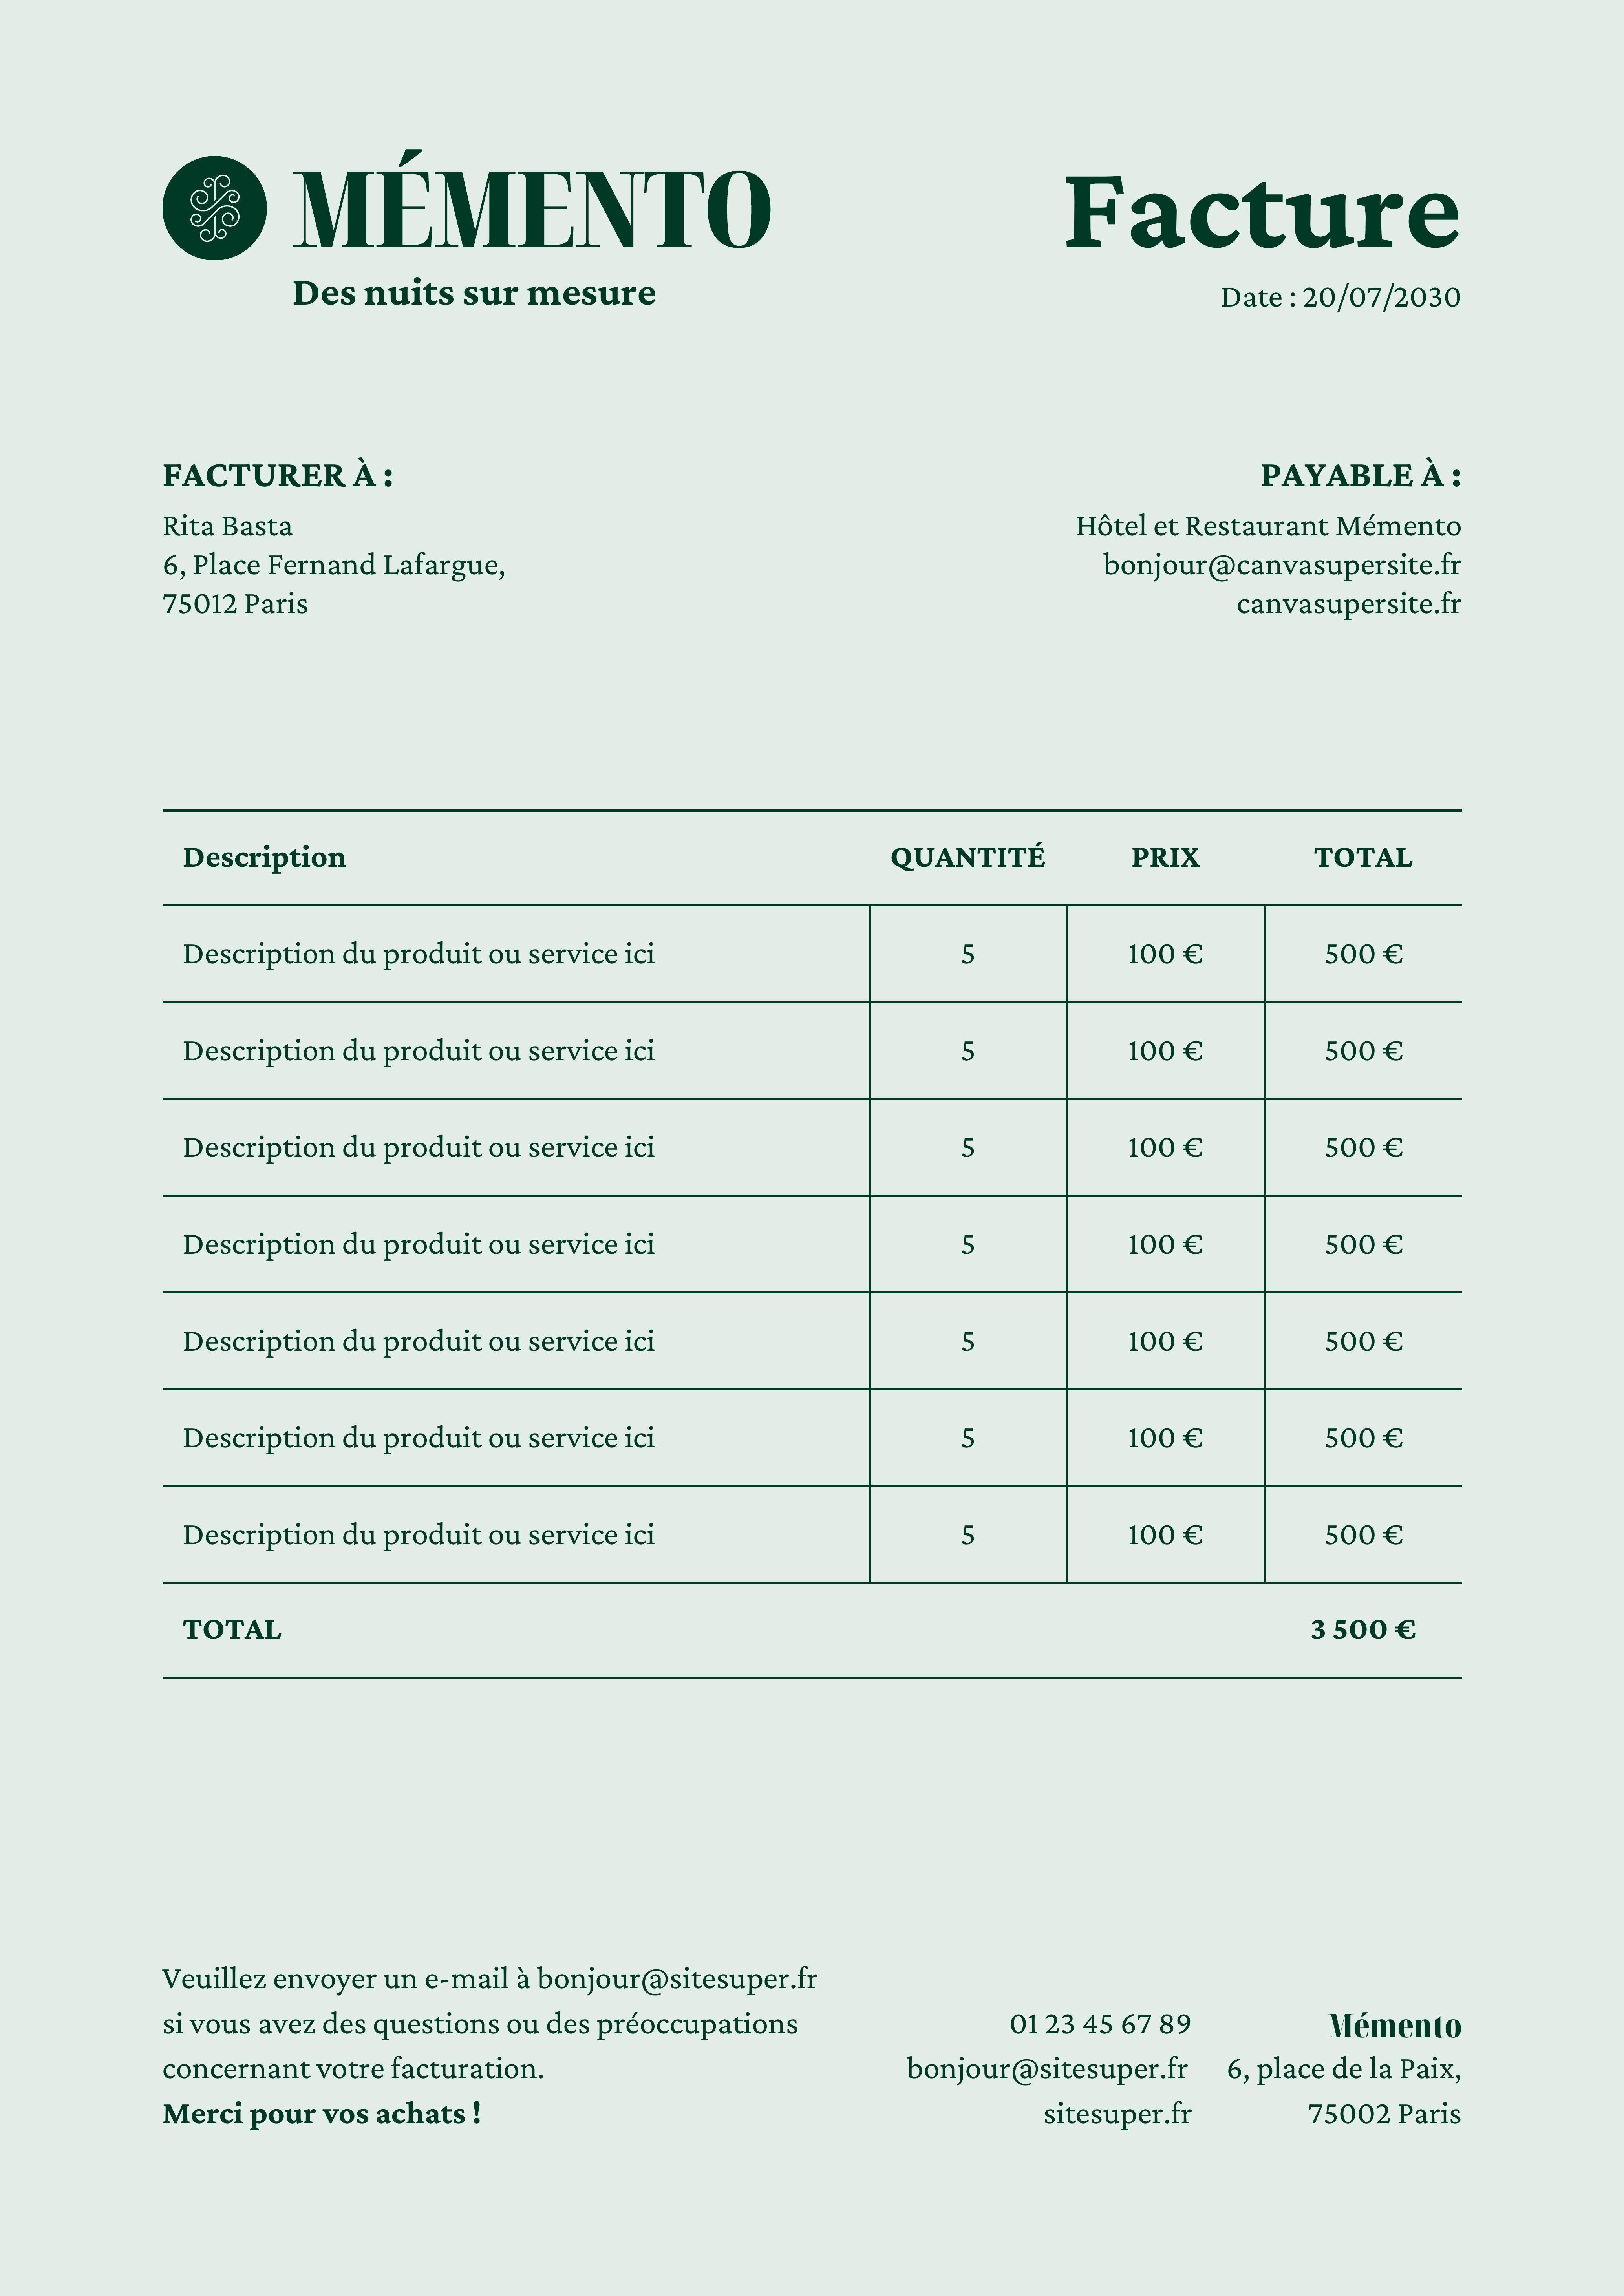ROI: (151, 799, 1475, 1593), (1056, 423, 1494, 641), (279, 148, 800, 327), (149, 436, 550, 652), (156, 1599, 1476, 1648)
